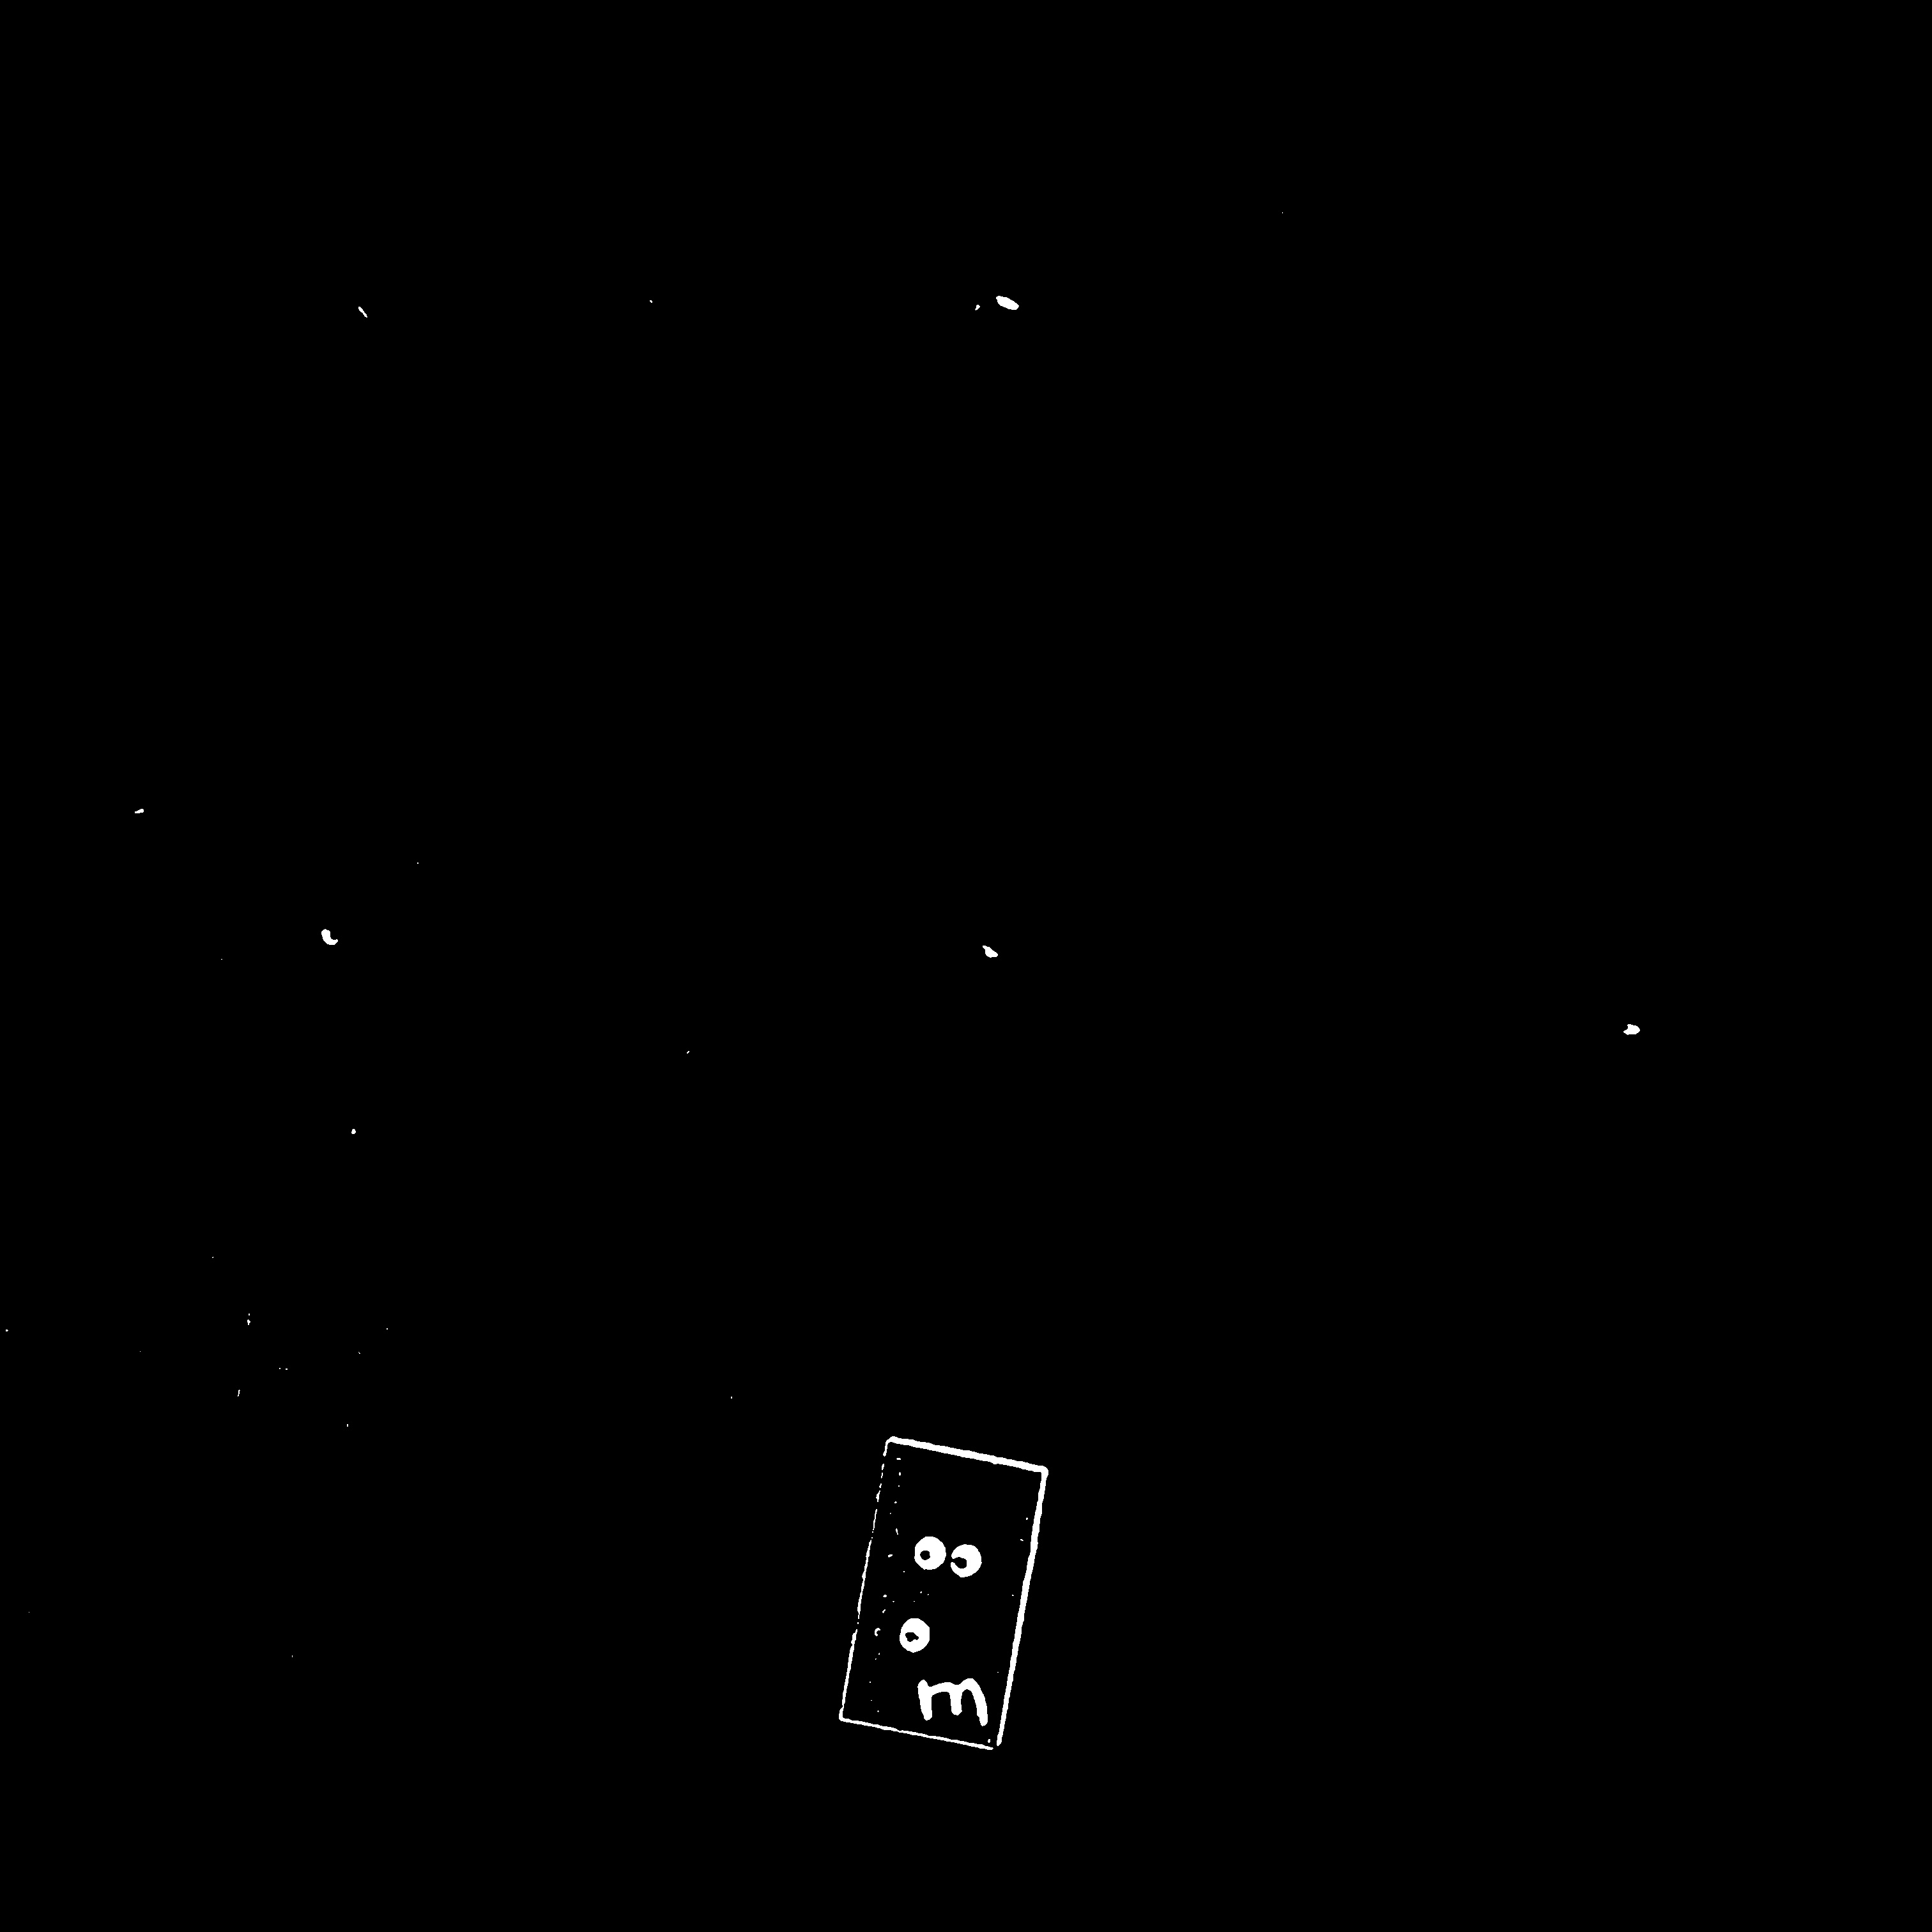m: (893, 1522, 999, 1673)
